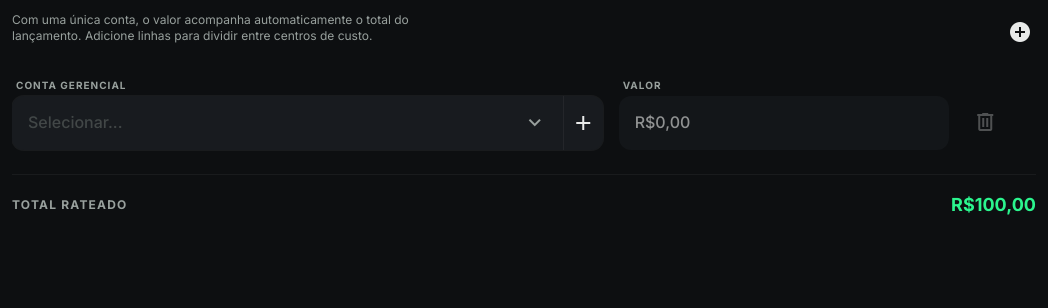
Scenario: RateioSection › shows multi-row description when singleRow=false after append
Expected: the text "Com uma única conta" is shown, [12,12,409,43]
What coordinates should you click on to do the following:
click the button titled "Adicionar conta ao rateio"
I would click on:
 (1020, 34)
Its box is [1004,16,1036,52].
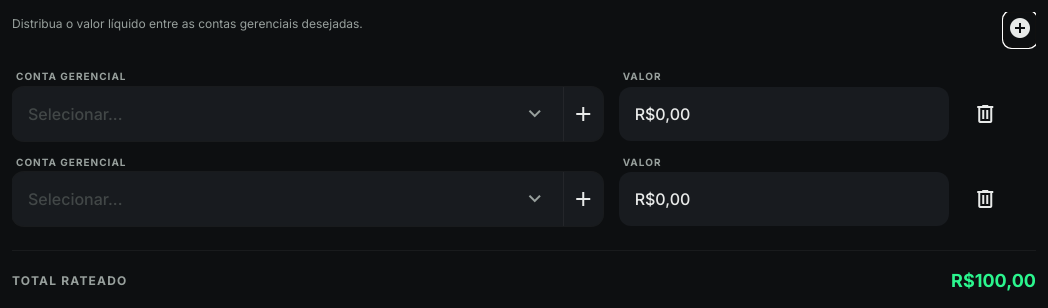
Result: the text "Com uma única conta" is gone
Result: the text "Distribua o valor líquido" is shown at [12,16,363,31]
